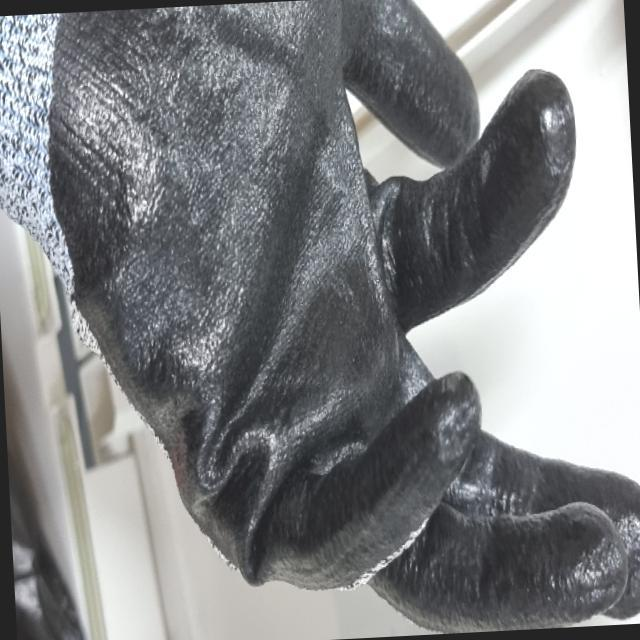Gloves: (0, 0, 638, 640)
